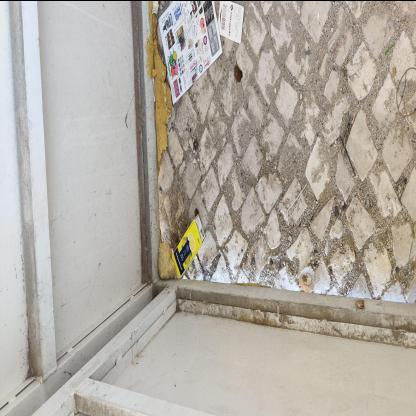kagit: (158, 2, 224, 106)
karton: (173, 213, 208, 279), (218, 2, 246, 44)
